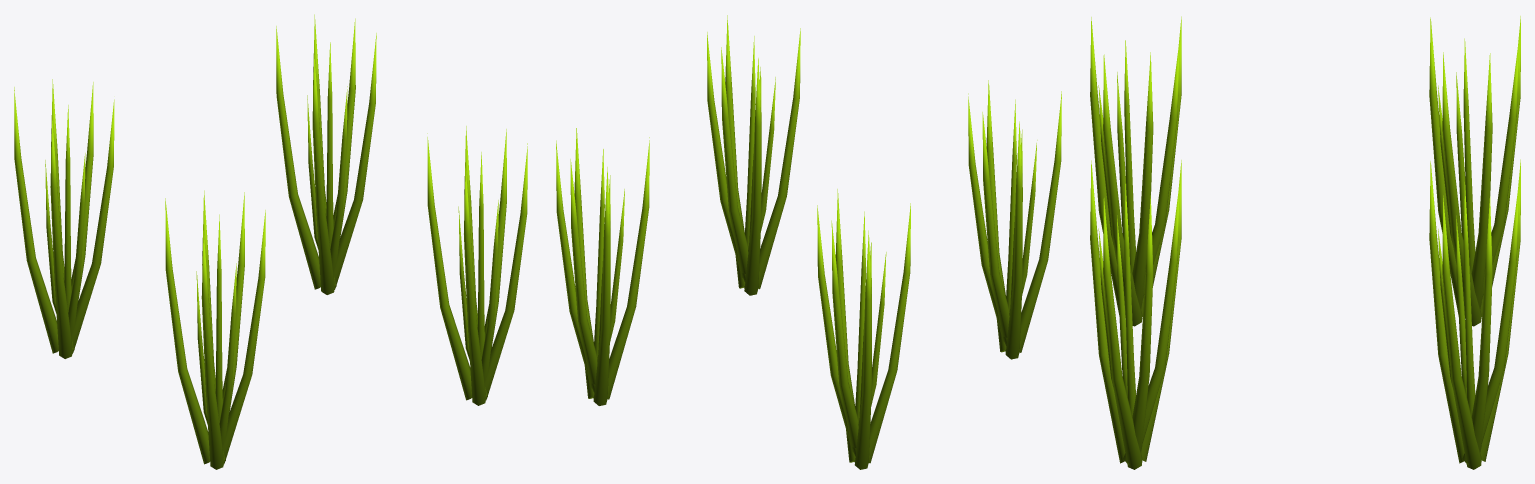
Rendered from Farm_Crop_Water_Chestnut_Step_02.fbx.
The picture shows the model from 3 angles, left to right: view 1: azimuth 30°, elevation 25°; view 2: azimuth 150°, elevation 25°; view 3: azimuth 270°, elevation 25°; orthographic projection. The views are drawn at different scales.
Visible parts, largest first — view 1: Farm_Crop_Water_Chestnut_Step_02; view 2: Farm_Crop_Water_Chestnut_Step_02; view 3: Farm_Crop_Water_Chestnut_Step_02.
Boxes of the visible parts, <box> form: Farm_Crop_Water_Chestnut_Step_02: <box>14,14,527,469</box>; Farm_Crop_Water_Chestnut_Step_02: <box>556,15,1061,469</box>; Farm_Crop_Water_Chestnut_Step_02: <box>1090,16,1520,469</box>.
Size of the model in its own units: 126 by 94.51 by 127.
